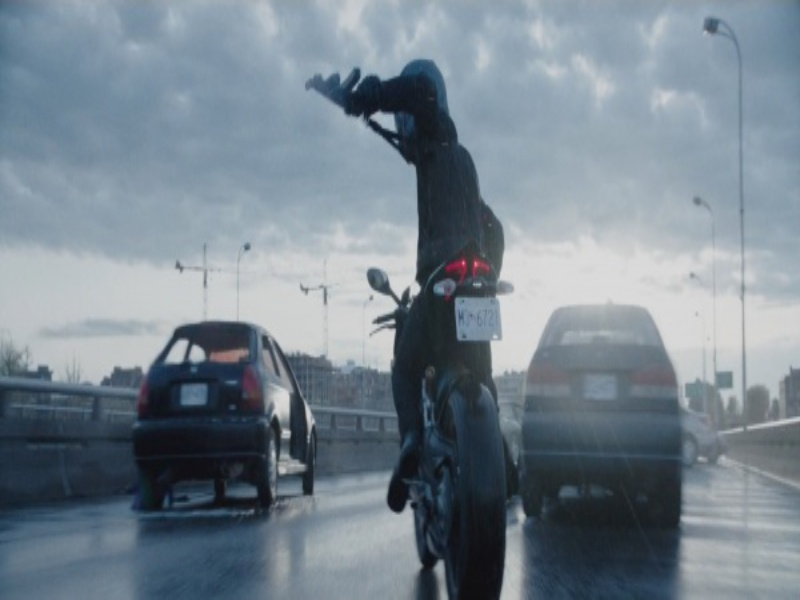person: (352, 50, 510, 509)
weapon: (305, 64, 374, 117)
